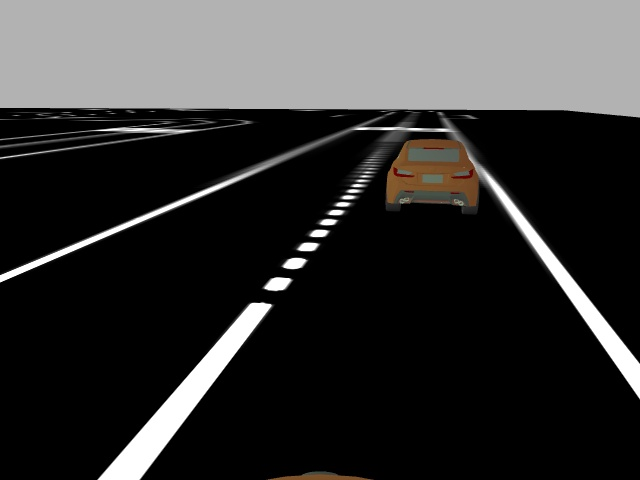obstacle_car: (384, 138, 481, 215)
